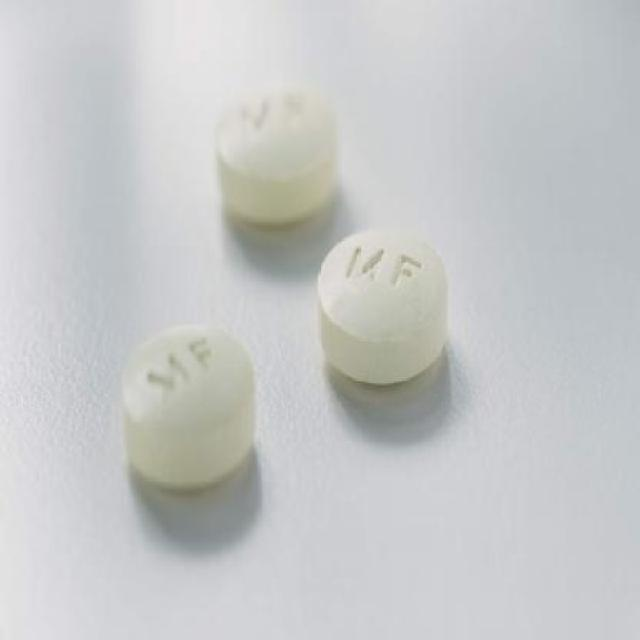B3: (117, 74, 443, 488)
